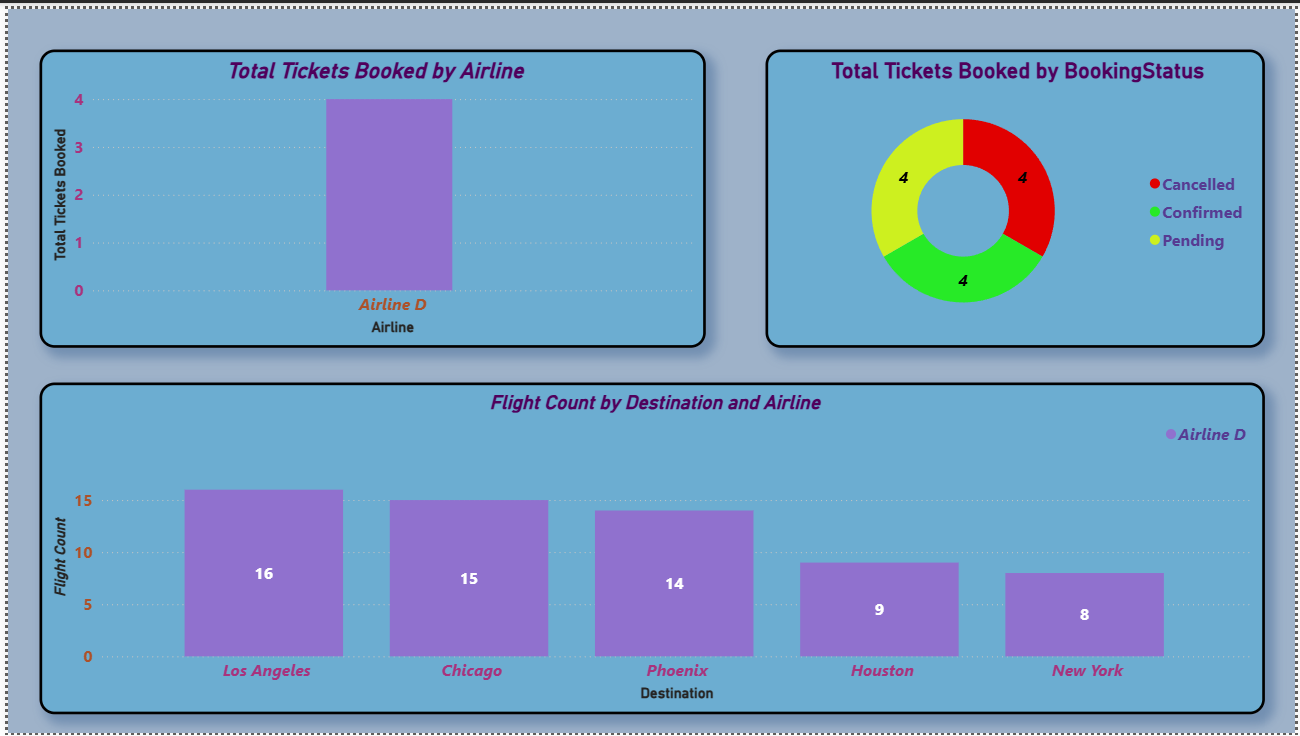

The dashboard page shown, as its layout file describes it:
{"tool":"powerbi","page":{"name":"Airline D","canvas":[1280,720],"ordinal":5},"visuals":[{"type":"columnChart","fields":{"Category":["flight_information.Airline"],"Y":["Measure.Total Tickets Booked"]},"box":[31.3,40.3,662.3,296.9],"z":0},{"type":"donutChart","fields":{"Category":["ticket_information.BookingStatus"],"Y":["Measure.Total Tickets Booked"]},"box":[753.3,40.3,496.8,296.9],"z":1000},{"type":"columnChart","fields":{"Category":["flight_information.Destination"],"Y":["Measure.Flight Count"],"Series":["flight_information.Airline"]},"box":[31.3,371.4,1218.8,329.7],"z":2000}]}

Visuals, with their boxes in screenshot pixels (x1, y1, x2, y2), scaled from the page's 1280x720 canvas onto the 1300x736 screenshot:
columnChart - flight_information.Airline x Measure.Total Tickets Booked: (32, 41, 704, 345)
donutChart - ticket_information.BookingStatus x Measure.Total Tickets Booked: (765, 41, 1270, 345)
columnChart - flight_information.Destination x Measure.Flight Count: (32, 380, 1270, 717)
